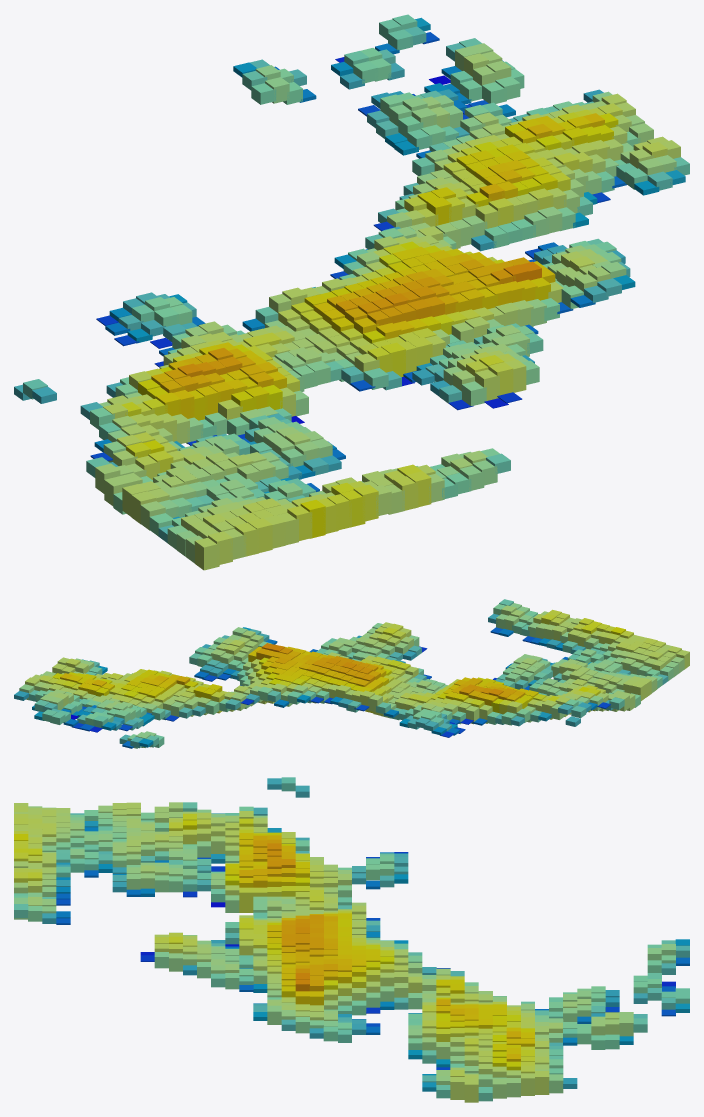
The model's file is population.glb.
3 views of the same model, one above another, from view 1: azimuth 30°, elevation 25°; view 2: azimuth 150°, elevation 25°; view 3: azimuth 270°, elevation 25° (orthographic). The views are drawn at different scales.
Parts seen in each view (by area): view 1: population; view 2: population; view 3: population.
Part boxes in pixels (left/top/right/bottom): population: left=14, top=14, right=689, bottom=570; population: left=14, top=599, right=689, bottom=748; population: left=14, top=777, right=689, bottom=1102.
Bounding box in the file's own units: 4784 × 524 × 4746.
